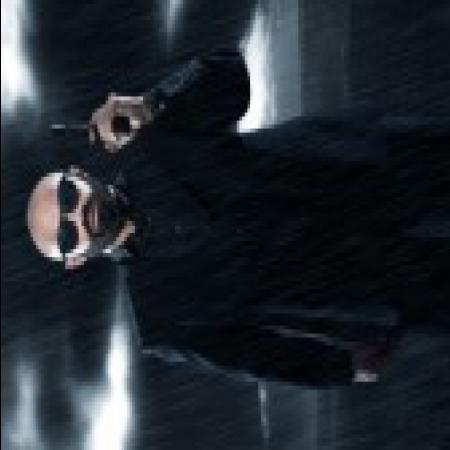Pistol: (42, 112, 128, 136)
